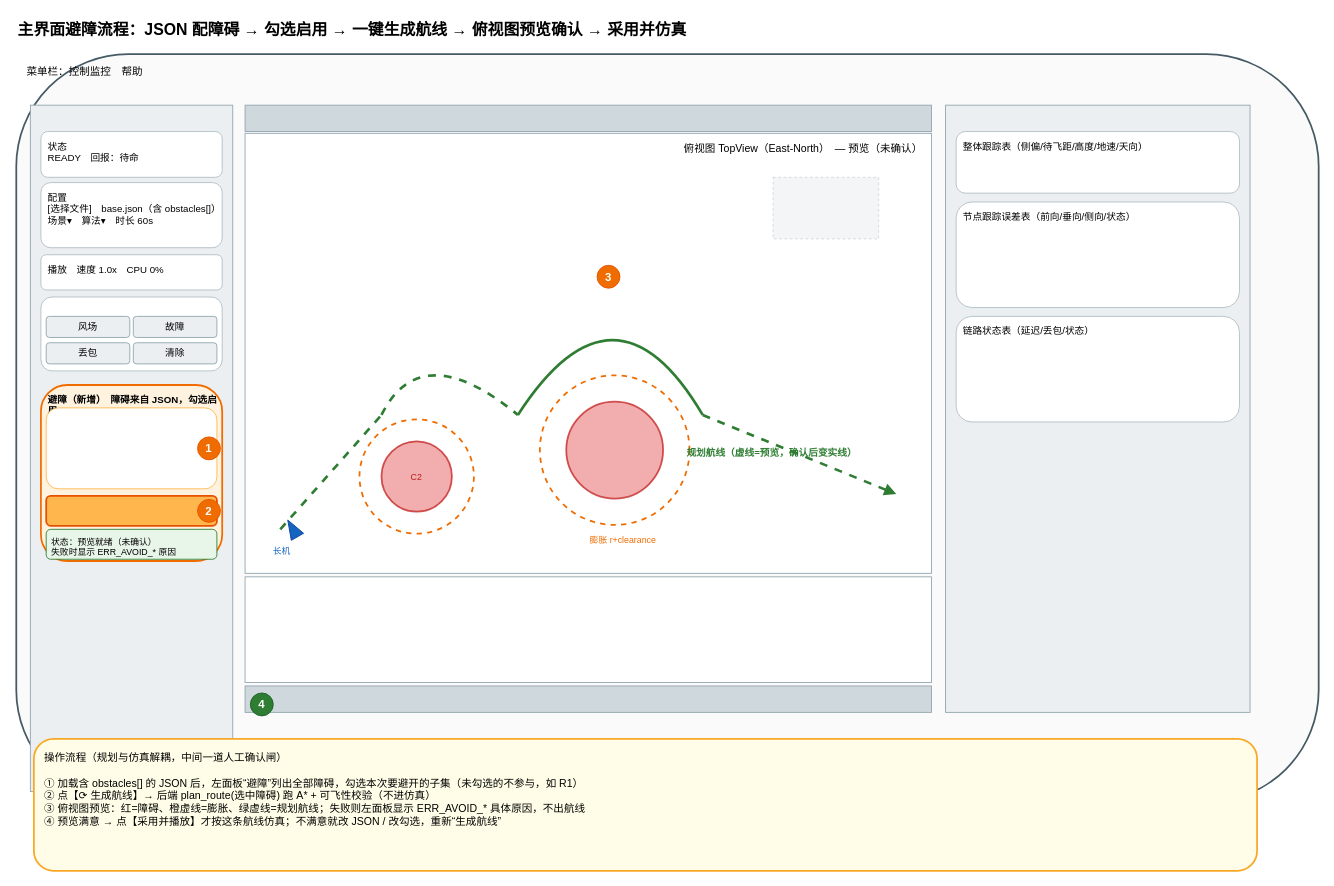
Image size: 1334x886. Some labels were removed from this diagram. Here are the shapes that lost their labels. From the top down, the box of each, then its label:
(244, 104, 931, 132): 工具栏：网格 居中 航段锁 视角 重置视图
(772, 176, 879, 239): R1（未勾选，不避）
(40, 296, 222, 371): 扰动（现有）
(945, 104, 1250, 712): 右面板 (400px)
(45, 407, 217, 489): ☑ C1 圆 (600,300) r80 ☑ C2 圆 (300,520) r60 ☐ R1 矩形 900..1100 ☑ R2 矩形 …
(29, 104, 233, 792): 左面板 (216px)
(565, 400, 664, 499): C1
(45, 495, 217, 526): ⟳ 生成航线
(244, 576, 931, 682): 侧视图 SideView（高度不变）
(244, 685, 931, 712): 时间轴：0.0/60s [▶ 采用并播放（预览确认后启用）] [单步] [重置] 进度 ▱▱▱▱▱
